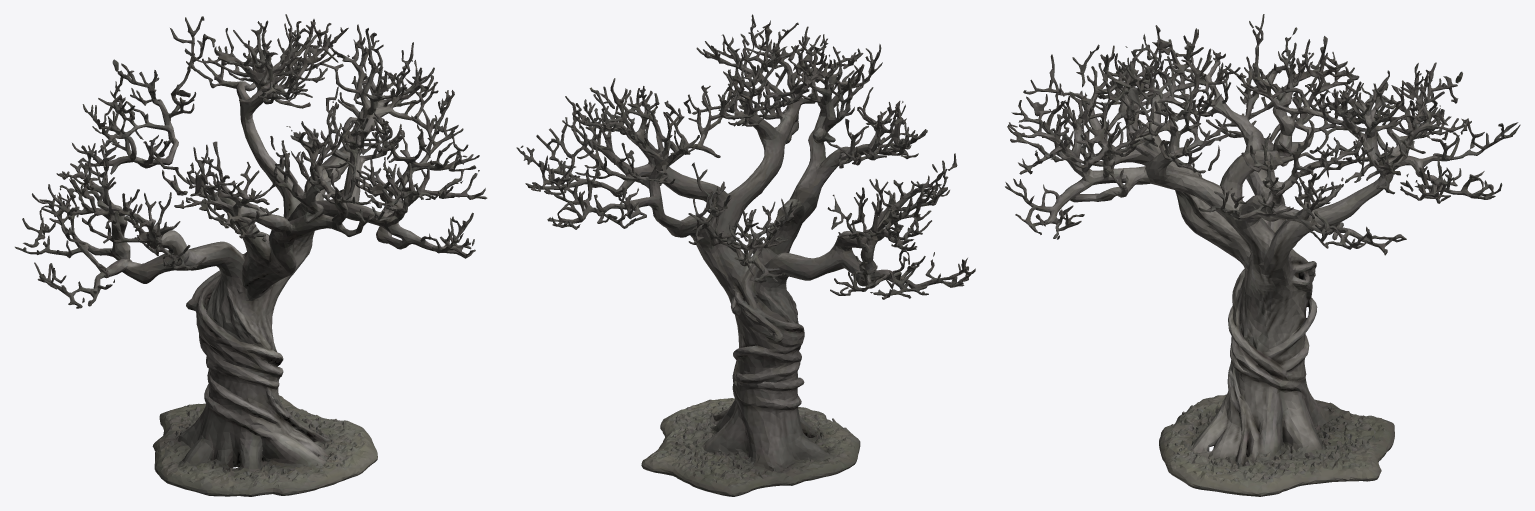
The model's file is char_dead_tree_02.glb.
3 renders of one model, left to right at view 1: azimuth 30°, elevation 25°; view 2: azimuth 150°, elevation 25°; view 3: azimuth 270°, elevation 25°, orthographic. The views are drawn at different scales.
Parts seen in each view (by area): view 1: geometry_0; view 2: geometry_0; view 3: geometry_0.
Part boxes in pixels (x1,y1,x2,y2): geometry_0: [15, 14, 487, 496]; geometry_0: [516, 14, 975, 496]; geometry_0: [1005, 14, 1520, 496].
Bounding box in the file's own units: 1 × 0.8578 × 0.9936.
1 material, 1 textured.
